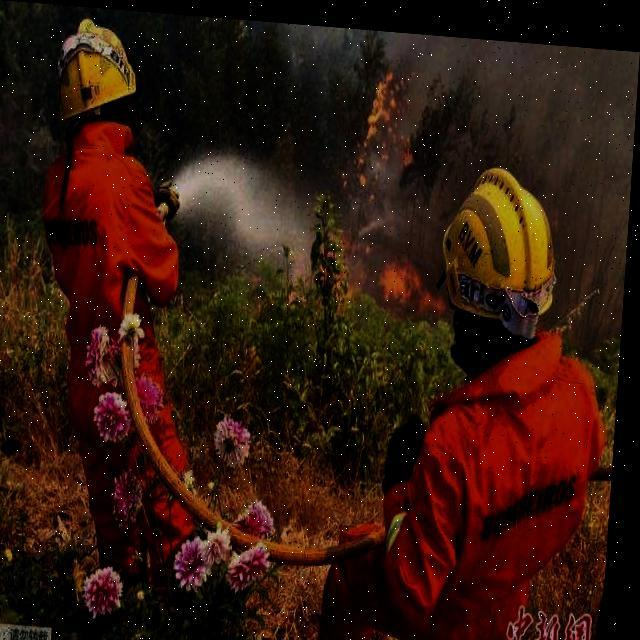Fire: (289, 39, 466, 315)
